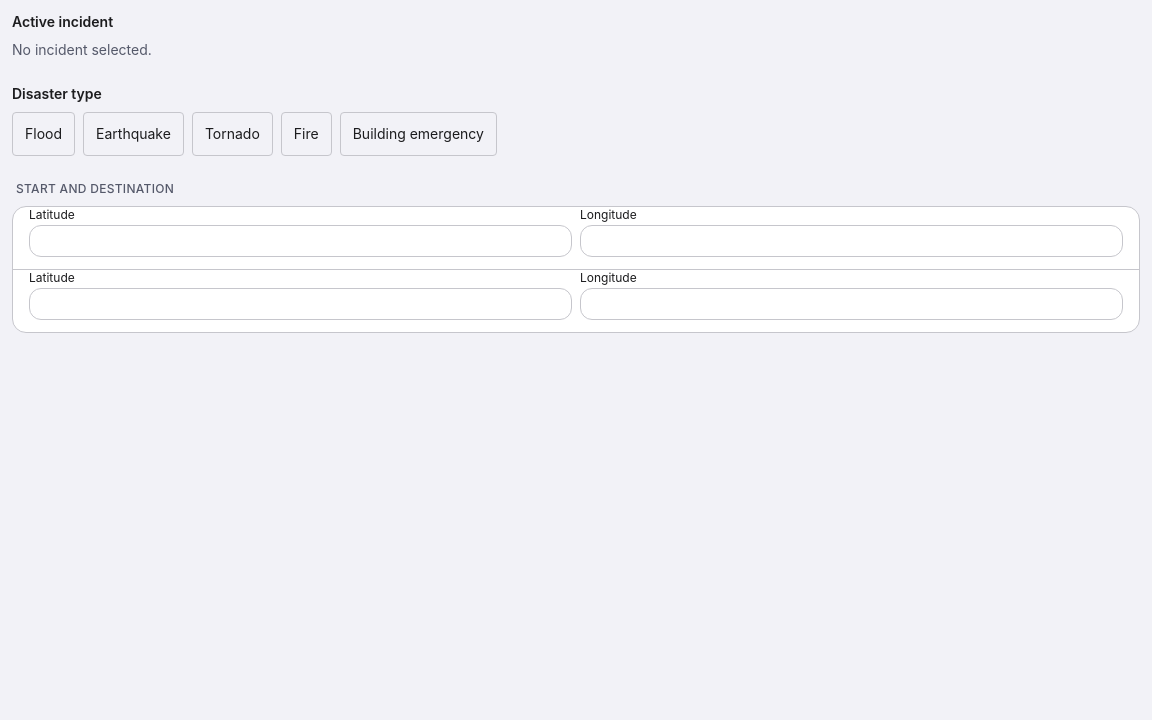
Incident and route setup › lists incidents of the selected type with SIMULATED scenario label and routing description
The width and height of the screenshot is (1152, 720).
Click the button "Tornado" at (232,134), box [192, 112, 273, 156]
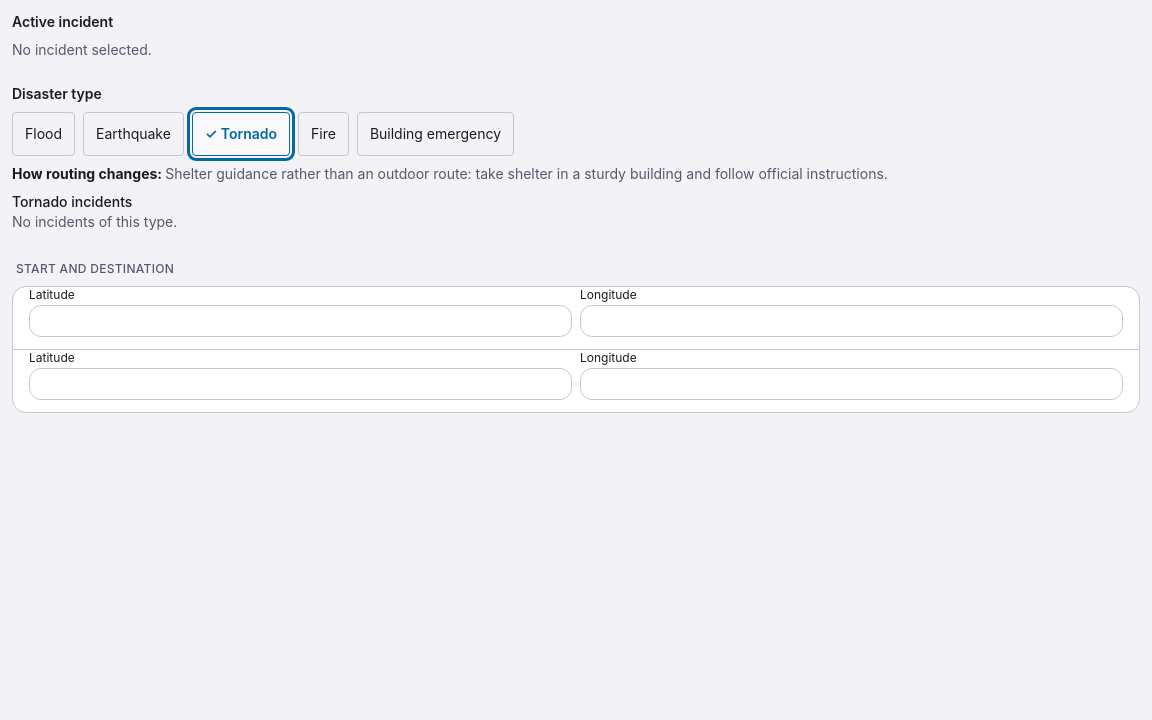
Expected: the element with test id "disaster-description" shows "Shelter guidance rather than an outdoor route", [165, 165, 888, 182]
Click the button "Flood" at (44,134), box [12, 112, 75, 156]
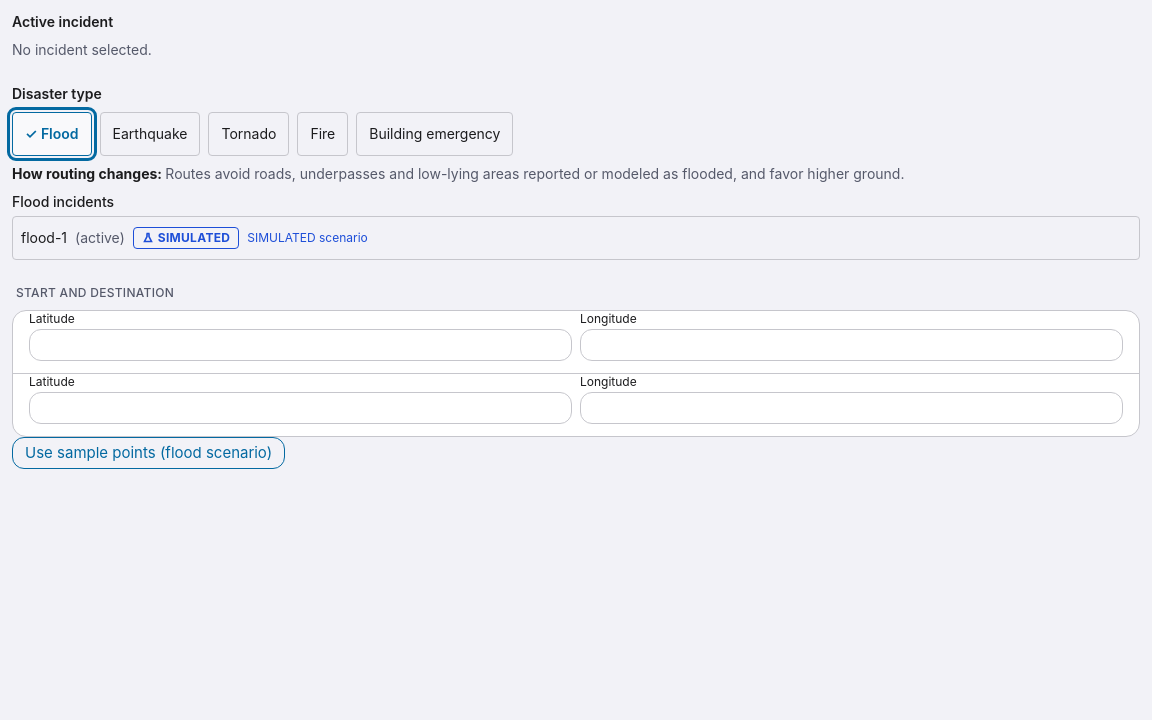
Click the button "flood-1 (active) SIMULATED SIMULATED scenario" at (44,238), box [12, 216, 1140, 260]
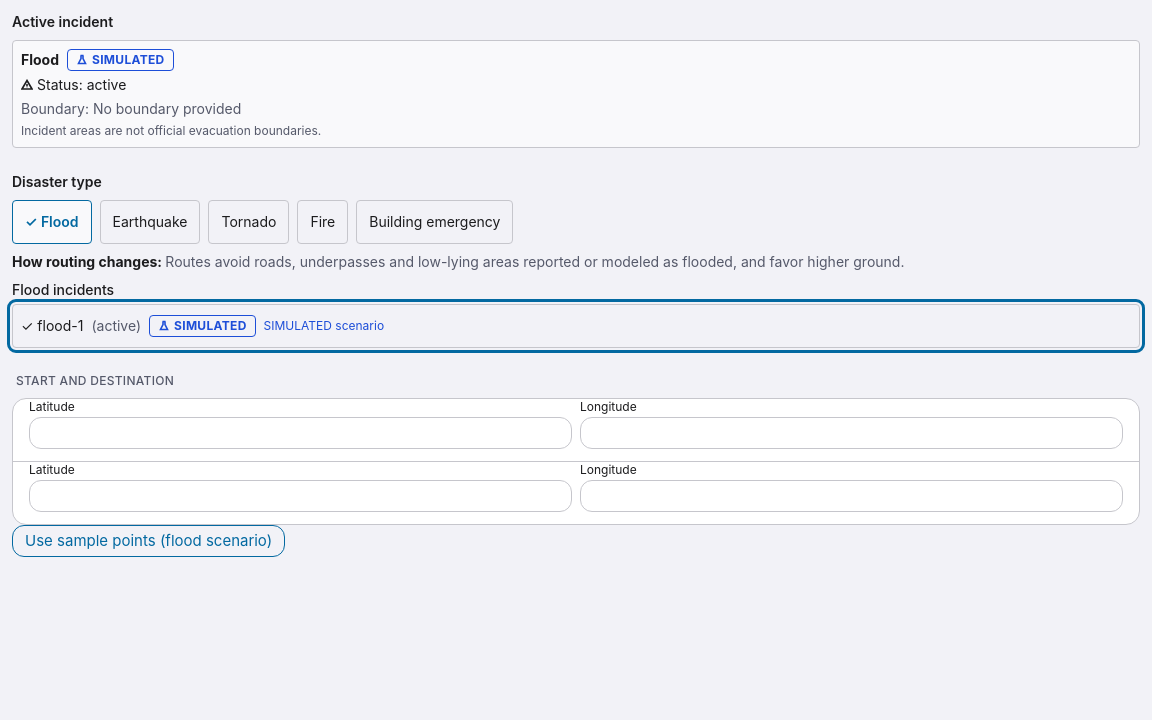
Expected: the text "SIMULATED scenario" is shown, [264, 318, 384, 334]
Expected: the element with test id "active-incident" shows "SIMULATED", [92, 52, 164, 67]
